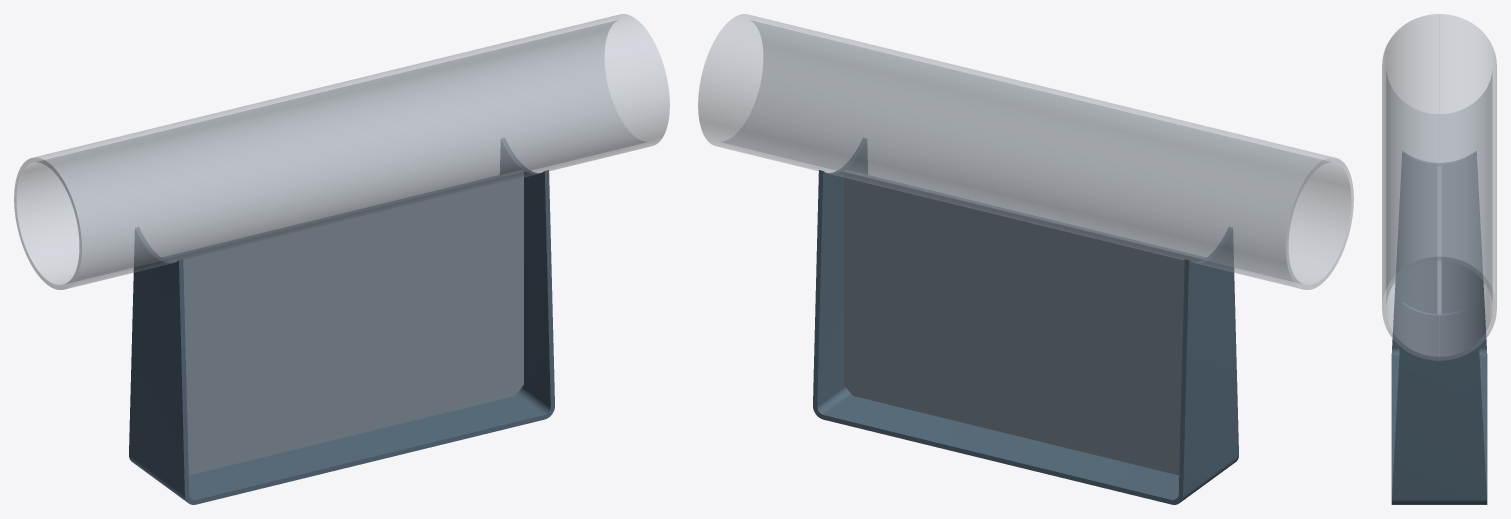
Rendered from TS-623.000-20-opora-dn108-H200-L340.glb.
3 views of the same model, side by side, from view 1: azimuth 30°, elevation 25°; view 2: azimuth 150°, elevation 25°; view 3: azimuth 270°, elevation 25° (orthographic). The views are drawn at different scales.
Parts seen in each view (by area): view 1: truba, rebro, skoba; view 2: truba, rebro, skoba; view 3: truba, skoba, rebro.
Part boxes in pixels (left/top/right/bottom): truba: left=14, top=14, right=669, bottom=289; rebro: left=162, top=170, right=523, bottom=475; skoba: left=129, top=138, right=554, bottom=504; truba: left=698, top=14, right=1353, bottom=289; rebro: left=844, top=170, right=1205, bottom=475; skoba: left=813, top=138, right=1238, bottom=504; truba: left=1382, top=14, right=1496, bottom=360; skoba: left=1391, top=151, right=1487, bottom=504; rebro: left=1437, top=166, right=1441, bottom=313.
Size of the model in its own units: 540 by 308 by 108.
